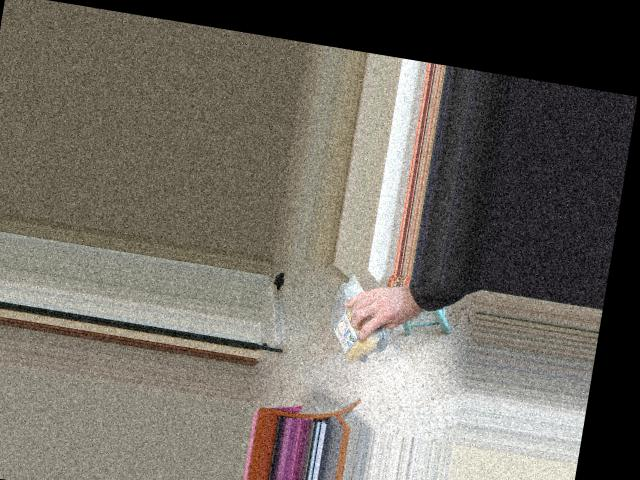cheese: (329, 277, 382, 374)
